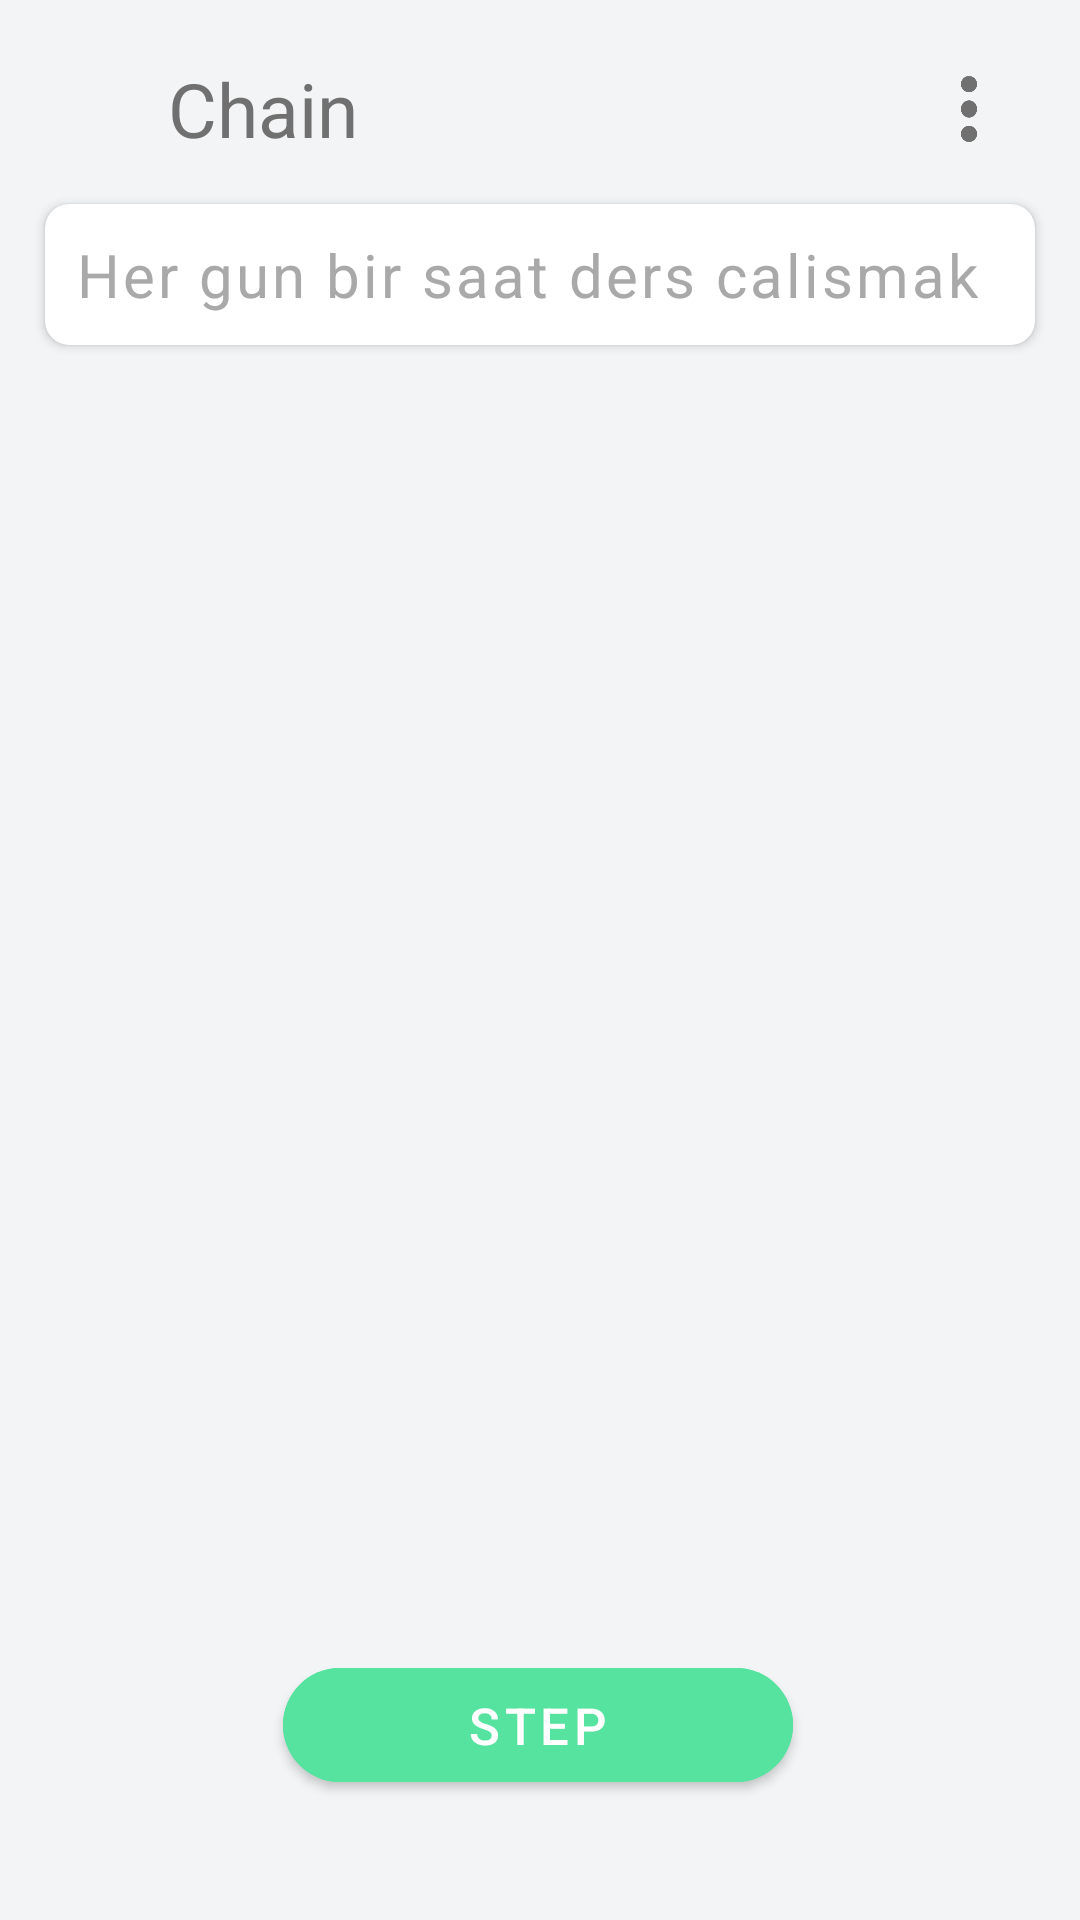

Icon click points for this 1080w x 1920h phone screenshot, format (x=x, y=y):
dots: (x=969, y=109)
